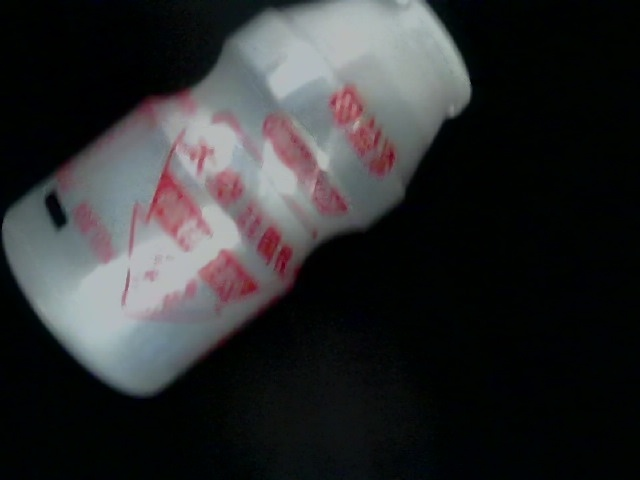CYLJ: (214, 271, 309, 381)
